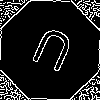U: (25, 25, 77, 82)
